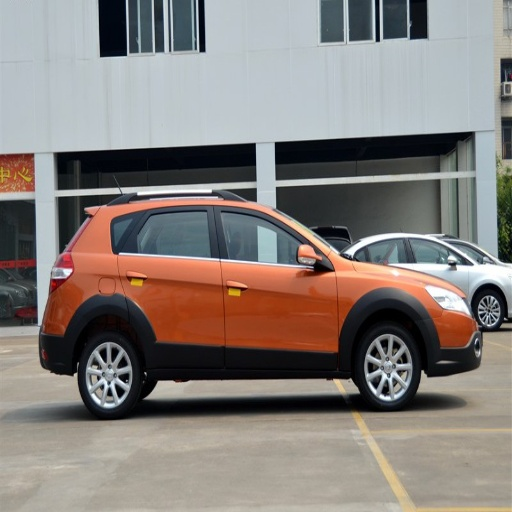back_right_door: (117, 205, 223, 366)
front_right_door: (217, 205, 337, 365)
